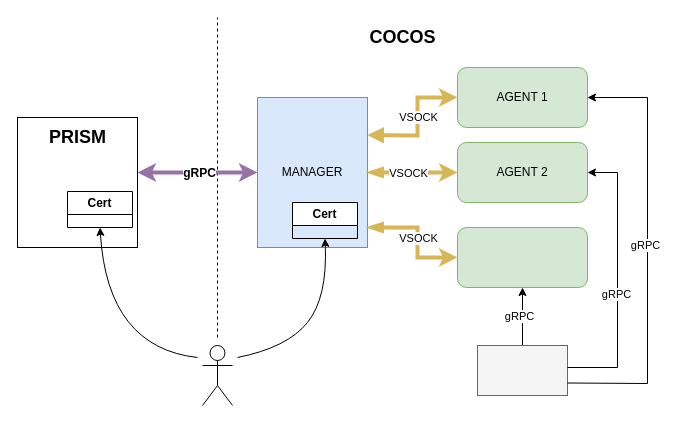
Some shapes in this 677 by 444 pixel diagram are drawn without their labels. Each missing label, with the centre of its shape:
"AGENT 3" goes at point 522,257.
"CLI" goes at point 522,370.
"USER" goes at point 217,375.
